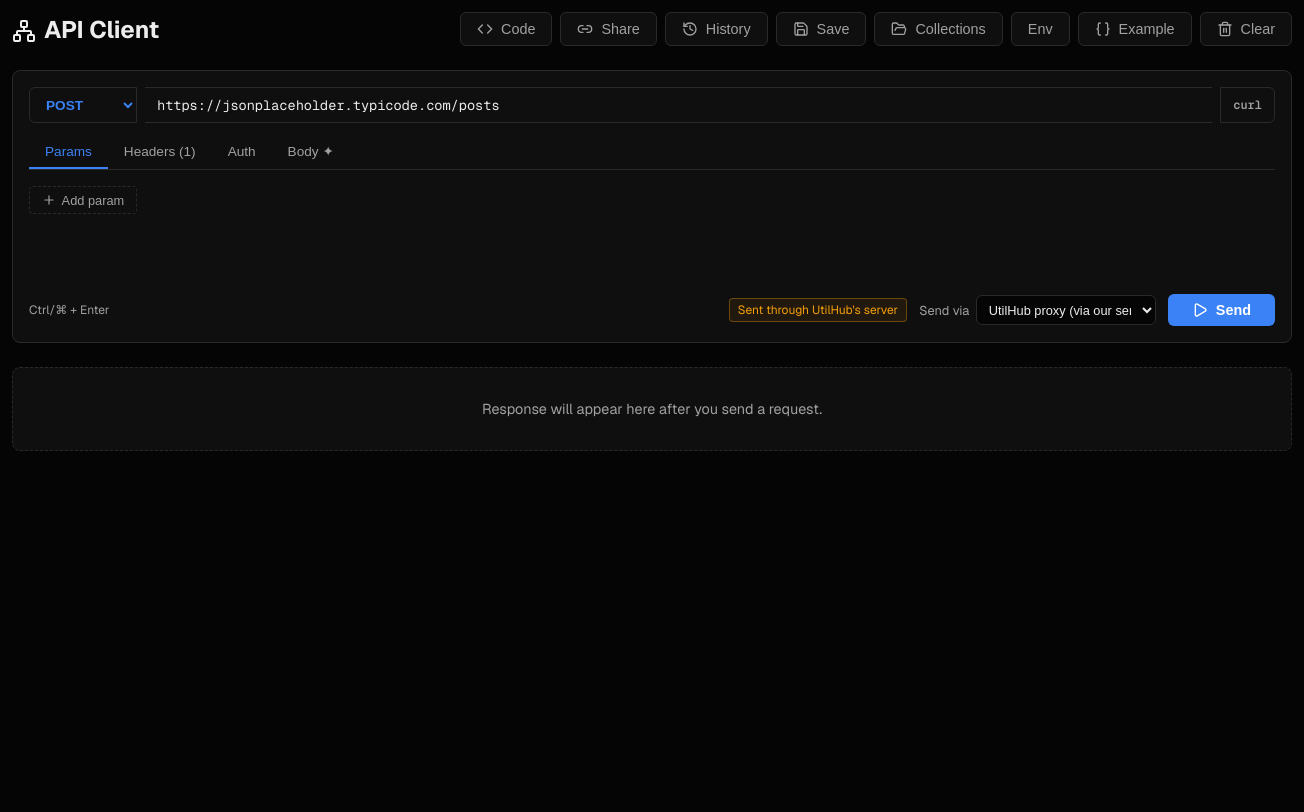
Test case: CurlTester › shows auth tab with Bearer and API Key options
This screenshot has width=1304, height=812.
Click the button "Auth" at x=242, y=152, box [212,135,272,169]
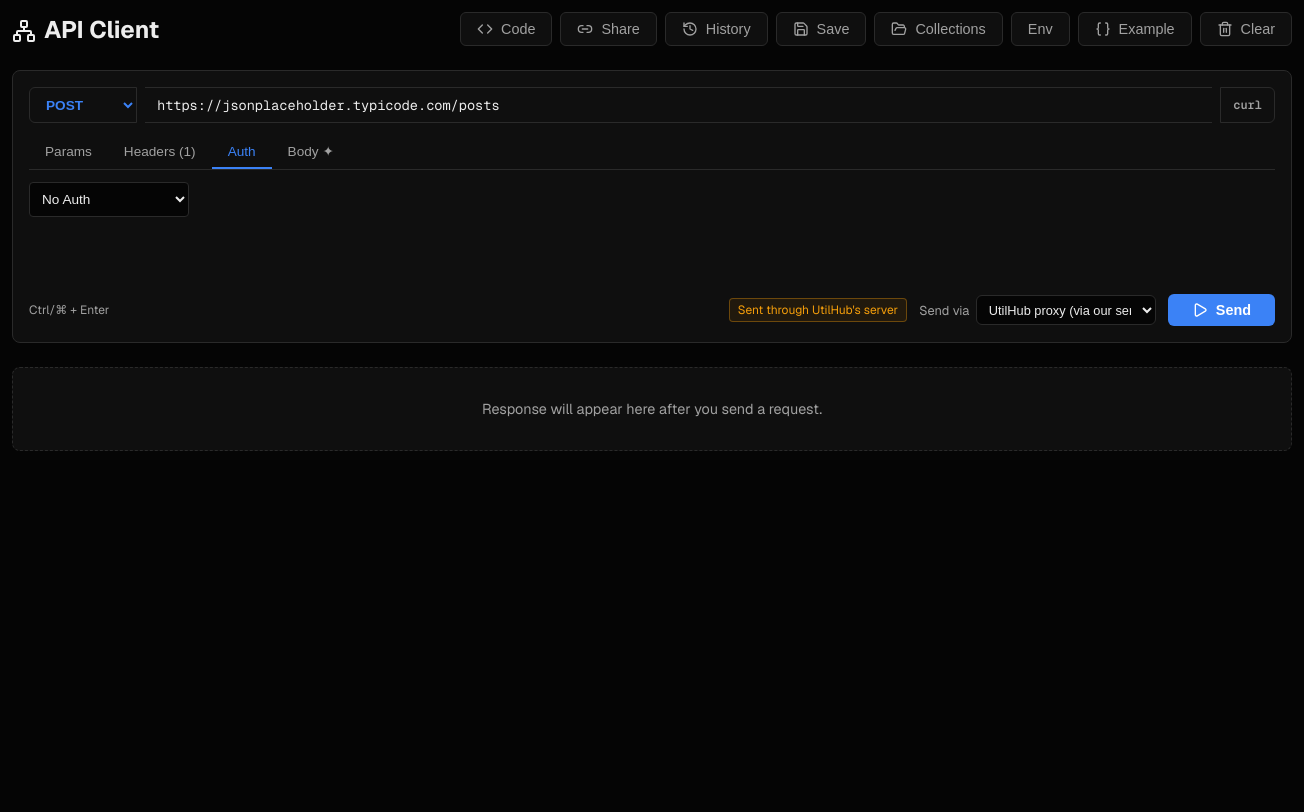
Select "Bearer Token" in the dropdown named "Authentication type" at x=109, y=200, box [29,182,189,217]
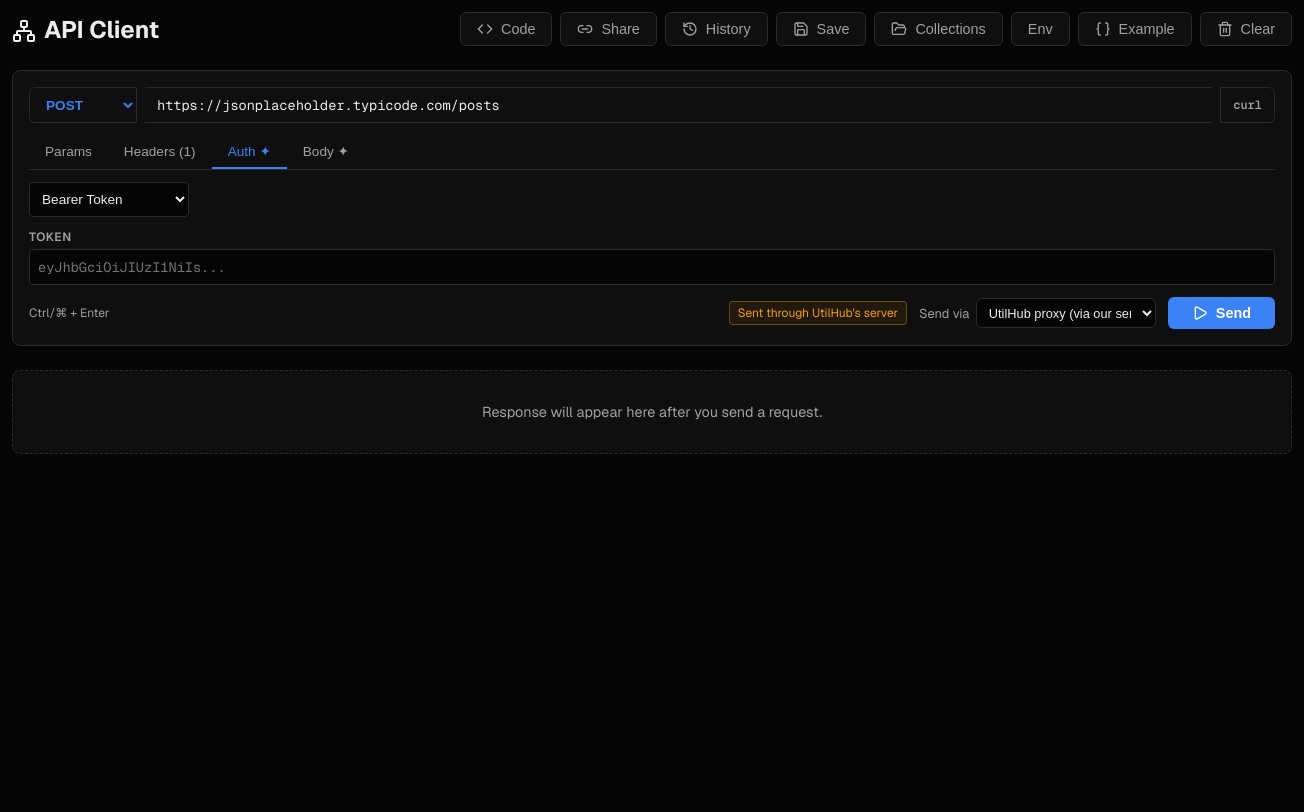
Now the field with placeholder "eyJhbGciOiJIUzI1NiIs..." is shown, box [29,249,1275,285]
Select "API Key" in the dropdown named "Authentication type" at x=109, y=200, box [29,182,189,217]
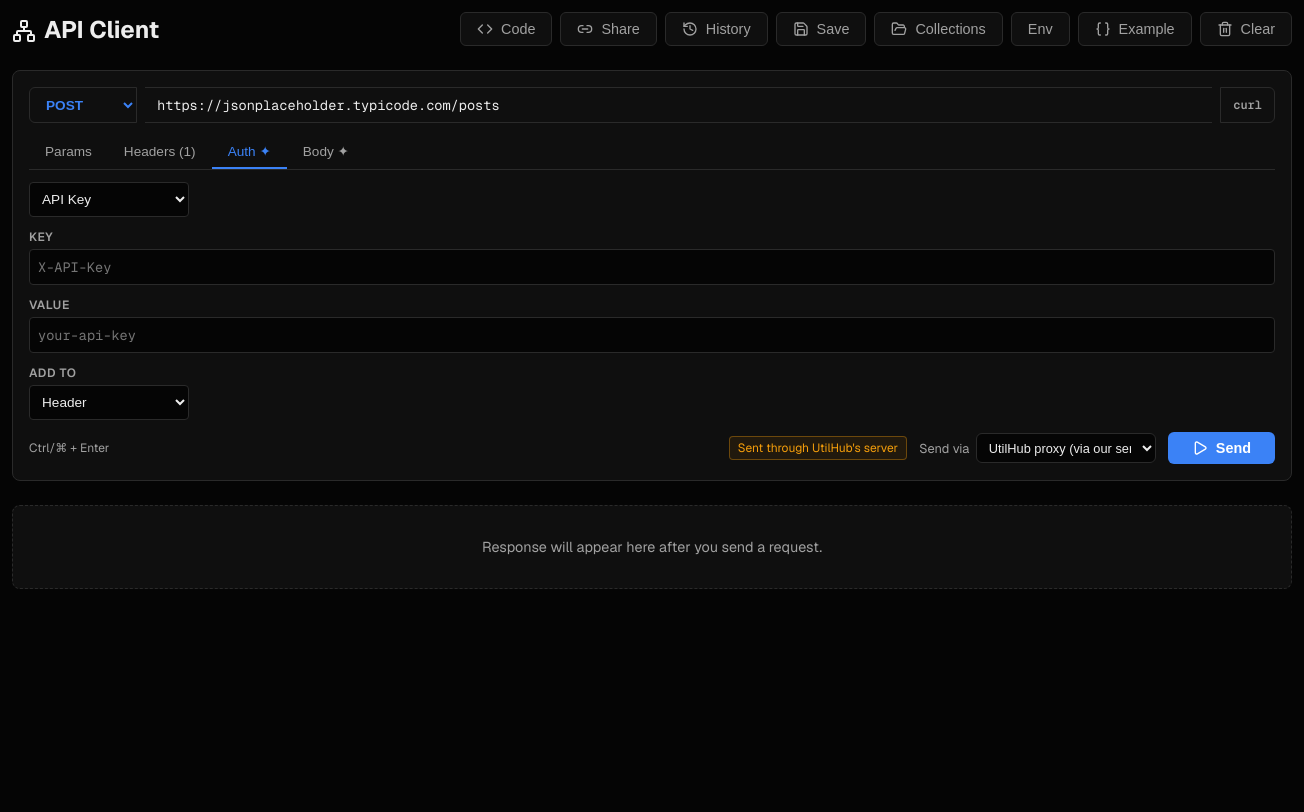
Now the field with placeholder "X-API-Key" is shown, box [29,249,1275,285]
Now the field with placeholder "your-api-key" is shown, box [29,317,1275,353]
